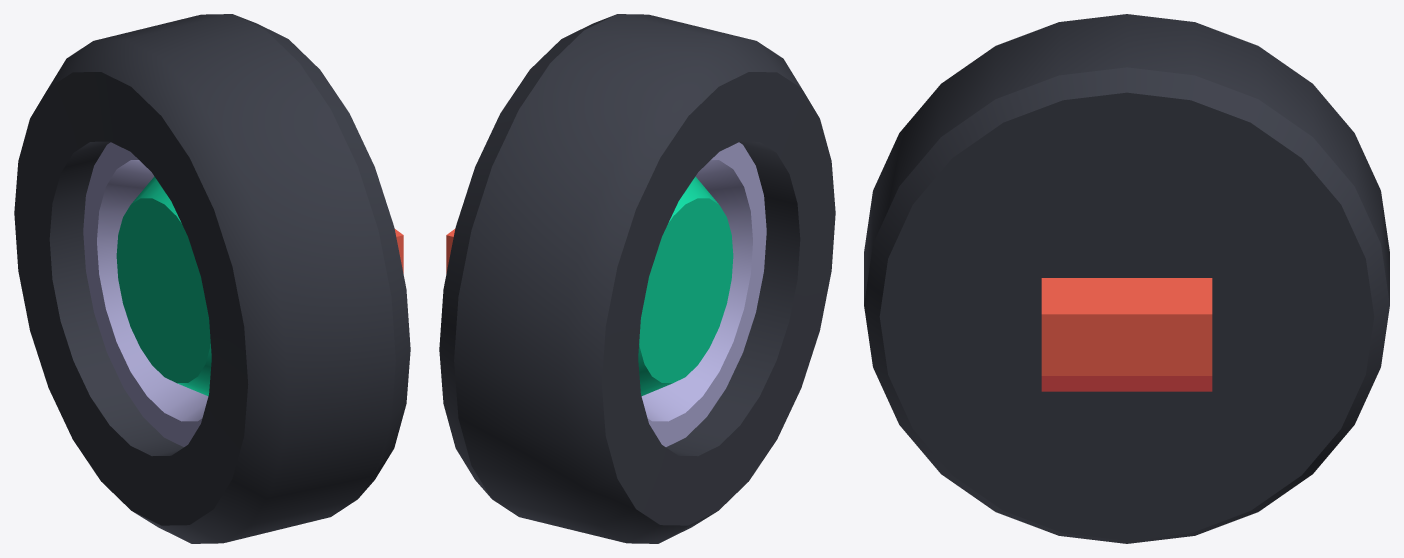
Rendered from Wheel.fbx.
3 views of the same model, side by side, from view 1: azimuth 30°, elevation 25°; view 2: azimuth 150°, elevation 25°; view 3: azimuth 270°, elevation 25° (orthographic).
Parts seen in each view (by area): view 1: wheel_classic; view 2: wheel_classic; view 3: wheel_classic, block.
Boxes of the visible parts, left/top/right/bottom form: wheel_classic: left=14, top=14, right=410, bottom=543; wheel_classic: left=439, top=14, right=835, bottom=543; wheel_classic: left=864, top=14, right=1389, bottom=543; block: left=1041, top=278, right=1212, bottom=391.
Bounding box in the file's own units: 3.16 × 6.16 × 6.16.
